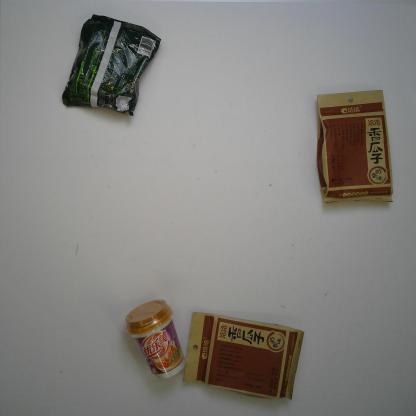Dried Food: (180, 308, 308, 403), (313, 87, 395, 207)
Instant Drink: (123, 297, 187, 381)
Instant Noodles: (58, 12, 164, 121)
